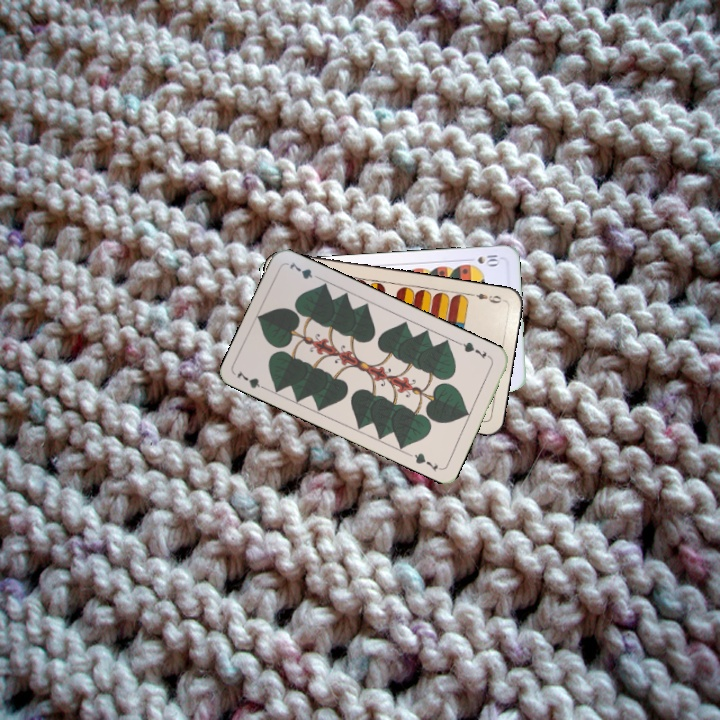E9: (466, 289, 506, 306)
G7: (233, 366, 271, 393), (455, 338, 494, 362)
S10: (463, 250, 503, 268)
